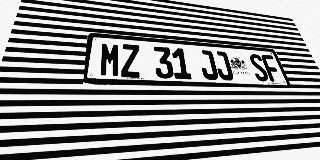1: (170, 48, 192, 79)
3: (153, 46, 174, 79)
F: (260, 54, 283, 82)
J: (212, 51, 235, 80), (197, 50, 219, 80)
M: (99, 42, 120, 77)
S: (248, 53, 270, 81)
Z: (121, 44, 141, 78)
